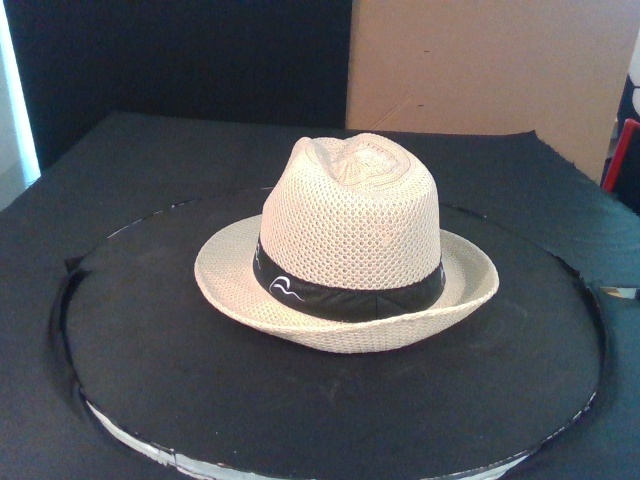hat: (193, 132, 500, 351)
